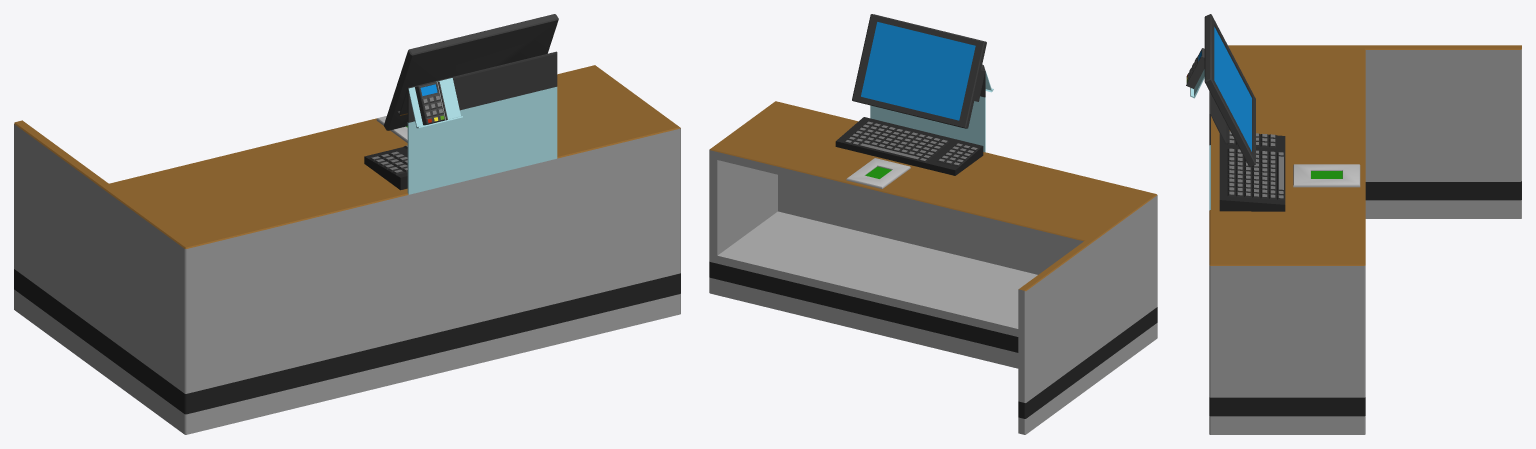
File: checkout_sm_left.glb
3 views of the same model, side by side, from view 1: azimuth 30°, elevation 25°; view 2: azimuth 150°, elevation 25°; view 3: azimuth 270°, elevation 25° (orthographic). The views are drawn at different scales.
Visible parts, largest first — view 1: checkout_sm_left; view 2: checkout_sm_left; view 3: checkout_sm_left.
Boxes of the visible parts, bbox=[...] form: checkout_sm_left: bbox=[14, 14, 680, 434]; checkout_sm_left: bbox=[709, 14, 1157, 434]; checkout_sm_left: bbox=[1186, 14, 1521, 434].
Size of what is drawn, in the model's own units: 2.5 by 1.59 by 1.61.
Materials: 3 (2 with a texture image).
